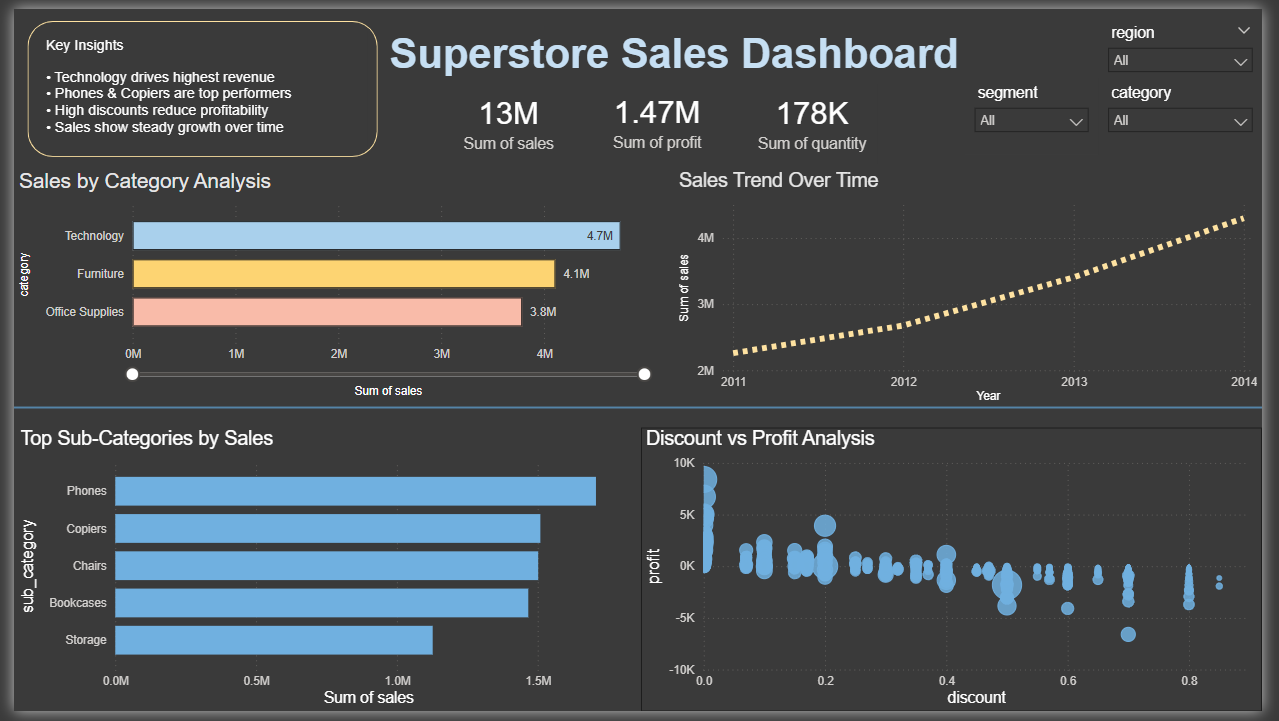

This screenshot's page, from the dashboard's own definition file:
{"tool":"powerbi","page":{"name":"Page 1","canvas":[1280,720],"ordinal":0},"visuals":[{"type":"textbox","box":[372.7,15.2,609.1,66.7],"z":0},{"type":"card","fields":{"Values":["Sum(SuperStoreOrders.sales)"]},"box":[413.6,71.2,186.4,87.9],"z":1000},{"type":"card","fields":{"Values":["Sum(SuperStoreOrders.profit)"]},"box":[569.7,71.2,180.3,84.8],"z":2000},{"type":"card","fields":{"Values":["Sum(SuperStoreOrders.quantity)"]},"box":[750,71.2,134.8,87.9],"z":3000},{"type":"barChart","title":"Sales by Category Analysis","fields":{"Category":["SuperStoreOrders.category"],"Y":["Sum(SuperStoreOrders.sales)"]},"box":[0,165.2,660.6,237.9],"z":4000},{"type":"lineChart","title":"Sales Trend Over Time","fields":{"Category":["SuperStoreOrders.order_date.Variation.Date Hierarchy.Year","SuperStoreOrders.order_date.Variation.Date Hierarchy.Quarter","SuperStoreOrders.order_date.Variation.Date Hierarchy.Month","SuperStoreOrders.order_date.Variation.Date Hierarchy.Day"],"Y":["Sum(SuperStoreOrders.sales)"]},"box":[677.3,165.2,603,243.9],"z":5000},{"type":"barChart","title":"Top Sub-Categories by Sales","fields":{"Category":["SuperStoreOrders.sub_category"],"Y":["Sum(SuperStoreOrders.sales)"]},"box":[1.5,428.8,640.9,290.9],"z":6000},{"type":"shape","box":[0,377.3,1280.3,63.6],"z":7000},{"type":"scatterChart","title":"Discount vs Profit Analysis","fields":{"X":["SuperStoreOrders.discount"],"Y":["SuperStoreOrders.profit"],"Size":["Sum(SuperStoreOrders.sales)"]},"box":[642.4,428.8,637.9,290.9],"z":8000},{"type":"slicer","fields":{"Values":["SuperStoreOrders.region"]},"box":[1112.1,9.1,168.2,62.1],"z":9000},{"type":"slicer","fields":{"Values":["SuperStoreOrders.category"]},"box":[1112.1,71.2,168.2,62.1],"z":10000},{"type":"slicer","fields":{"Values":["SuperStoreOrders.segment"]},"box":[975.8,71.2,136.4,78.8],"z":11000},{"type":"textbox","box":[27.3,22.7,334.8,118.2],"z":12000},{"type":"shape","box":[13.6,12.1,359.1,139.4],"z":13000}]}

Visuals, with their boxes in screenshot pixels (x1, y1, x2, y2), scaled from the page's 1280x720 canvas onto the 1279x721 screenshot:
textbox: bbox=[372, 15, 981, 82]
card - Sum(SuperStoreOrders.sales): bbox=[413, 71, 600, 159]
card - Sum(SuperStoreOrders.profit): bbox=[569, 71, 749, 156]
card - Sum(SuperStoreOrders.quantity): bbox=[749, 71, 884, 159]
"Sales by Category Analysis" barChart: bbox=[0, 165, 660, 404]
"Sales Trend Over Time" lineChart: bbox=[677, 165, 1278, 410]
"Top Sub-Categories by Sales" barChart: bbox=[1, 429, 642, 720]
shape: bbox=[0, 378, 1278, 442]
"Discount vs Profit Analysis" scatterChart: bbox=[642, 429, 1278, 720]
slicer - SuperStoreOrders.region: bbox=[1111, 9, 1278, 71]
slicer - SuperStoreOrders.category: bbox=[1111, 71, 1278, 133]
slicer - SuperStoreOrders.segment: bbox=[975, 71, 1111, 150]
textbox: bbox=[27, 23, 362, 141]
shape: bbox=[14, 12, 372, 152]
